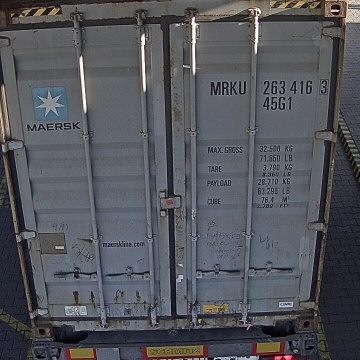serial_id: (210, 79, 328, 95)
